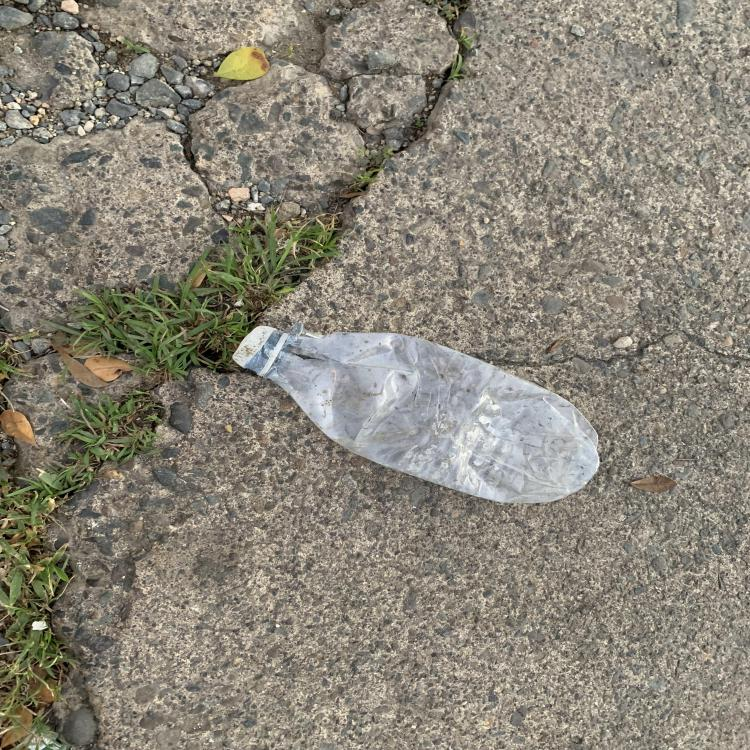Clear plastic bottle: (233, 321, 601, 503)
Plastic bottle cap: (233, 326, 275, 368)
